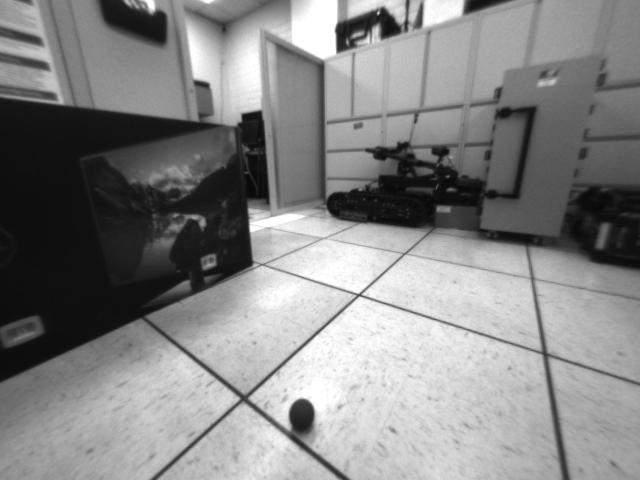dogtoy: (283, 389, 326, 440)
